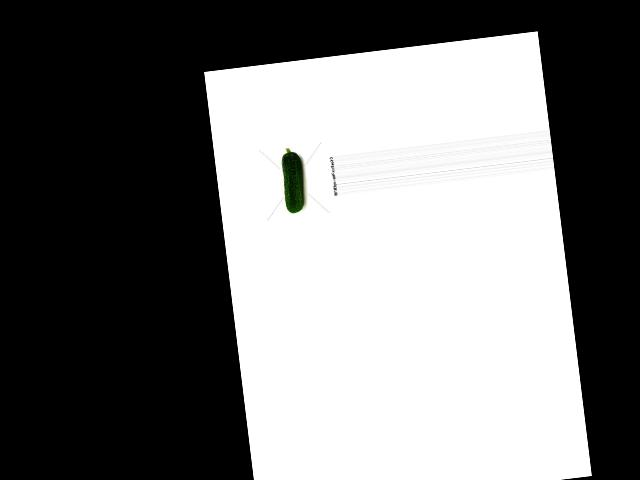cucumber: (279, 146, 307, 214)
